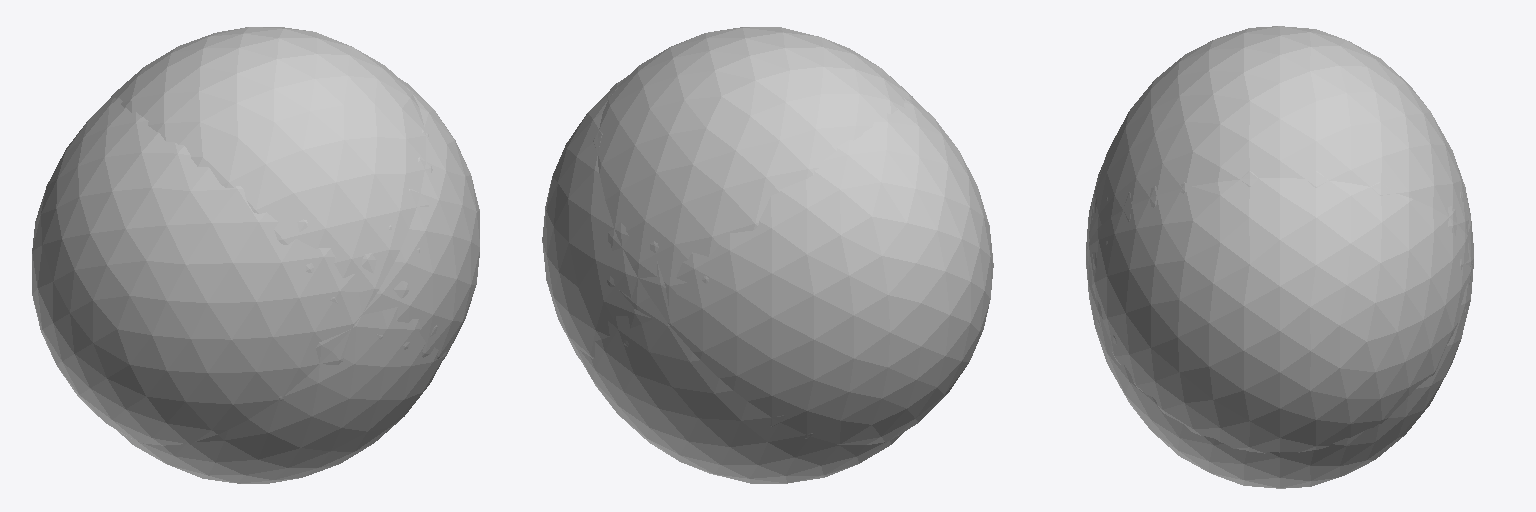
Rendered from piramis.obj.
The picture shows the model from 3 angles: view 1: azimuth 30°, elevation 25°; view 2: azimuth 150°, elevation 25°; view 3: azimuth 270°, elevation 25°; orthographic projection.
Parts seen in each view (by area): view 1: hdri-ca-sky.obj.001, hdri-ca-sky.obj.003; view 2: hdri-ca-sky.obj.001, hdri-ca-sky.obj.003; view 3: hdri-ca-sky.obj.001, hdri-ca-sky.obj.003.
Part boxes in pixels (x1,y1,x2,y2): hdri-ca-sky.obj.001: (32, 78, 479, 445); hdri-ca-sky.obj.003: (110, 27, 446, 483); hdri-ca-sky.obj.001: (542, 78, 993, 444); hdri-ca-sky.obj.003: (578, 27, 914, 483); hdri-ca-sky.obj.001: (1086, 136, 1473, 453); hdri-ca-sky.obj.003: (1086, 26, 1473, 488).
Size of the model in its own units: 39878 by 39878 by 33128.